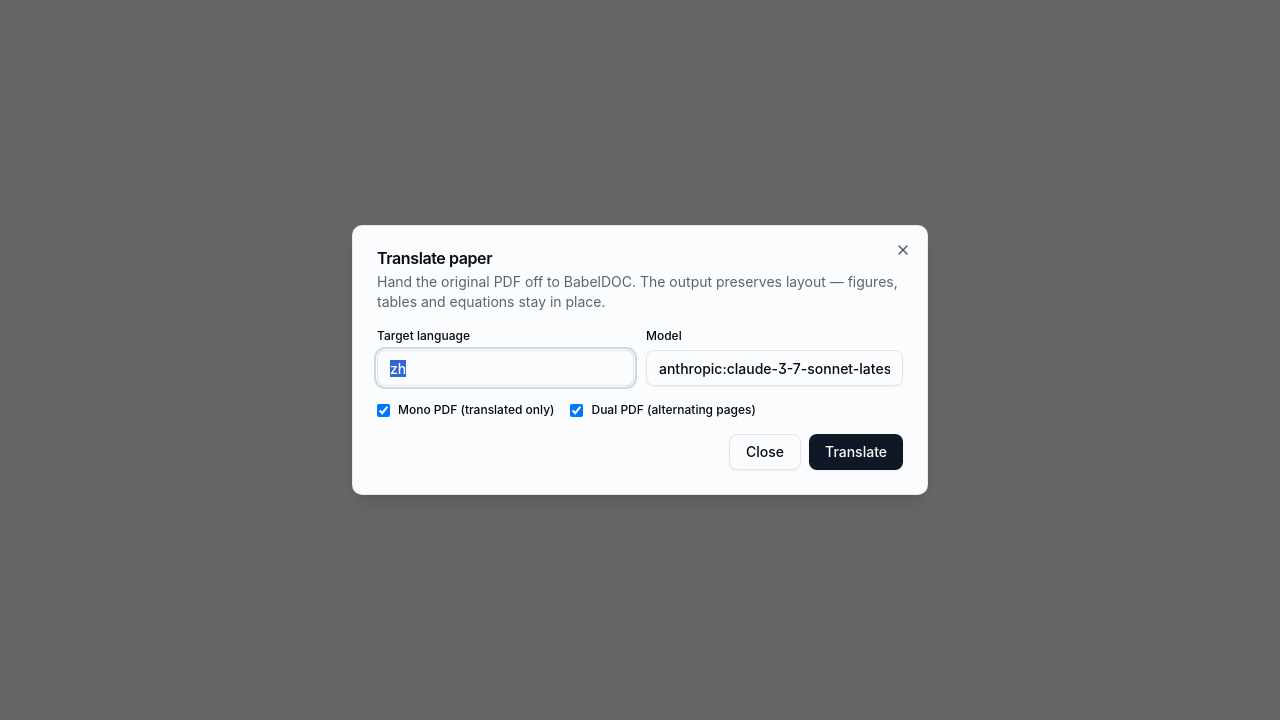
Test: TranslateDialog › surfaces a POST error without opening a socket
Click the button "Translate" at [856, 452], box [809,434,903,470]
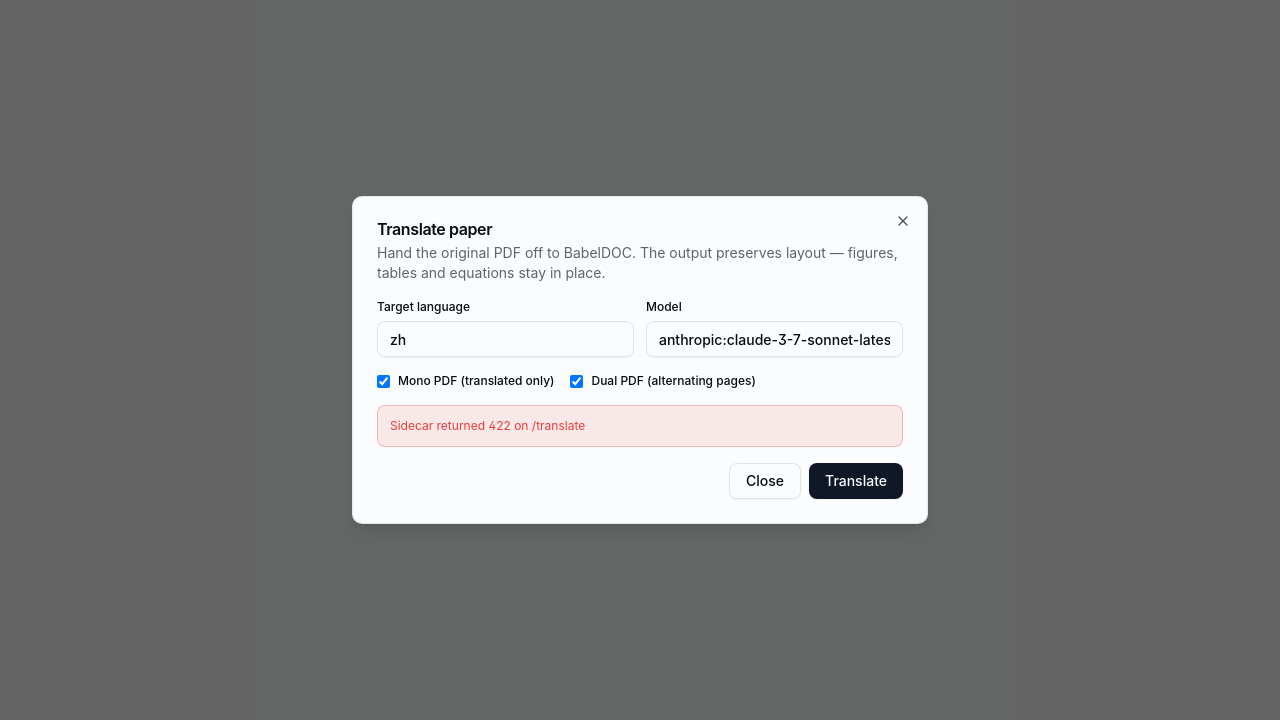
expect the message shows "422": met, box [390,418,585,433]
